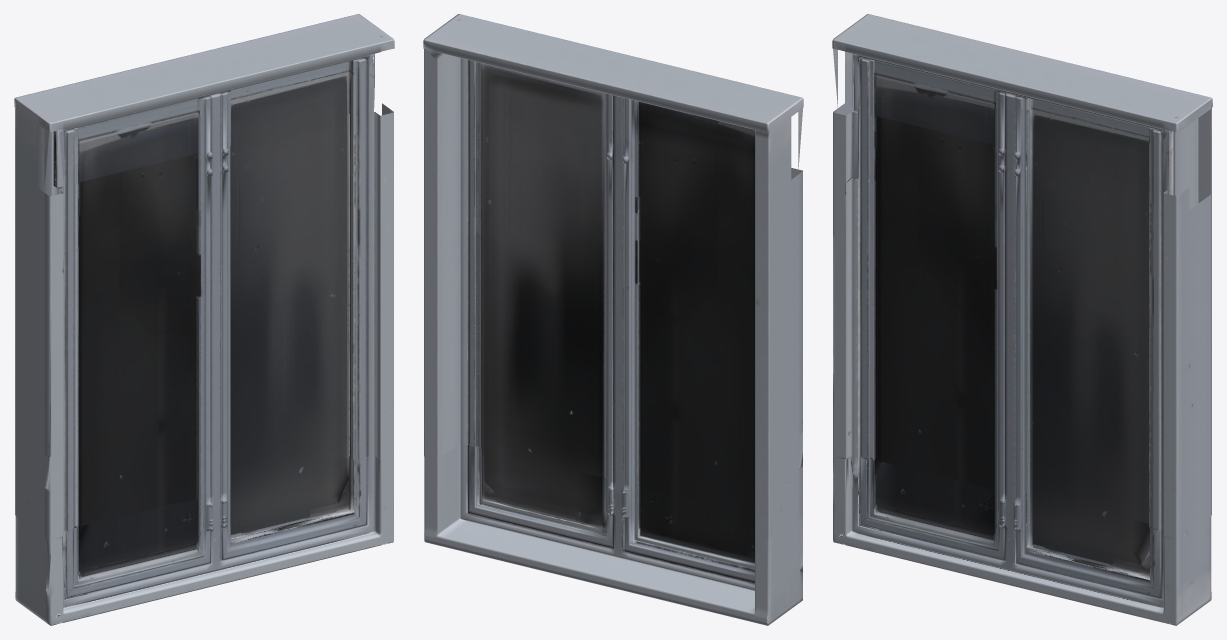
The model's file is selected.fbx.
The picture shows the model from 3 angles, left to right: view 1: azimuth 30°, elevation 25°; view 2: azimuth 150°, elevation 25°; view 3: azimuth 330°, elevation 25°; orthographic projection.
Visible parts, largest first — view 1: Mesh_0; view 2: Mesh_0; view 3: Mesh_0.
Boxes of the visible parts, x1,y1,x2,y2 form: Mesh_0: [14, 14, 394, 625]; Mesh_0: [423, 14, 803, 625]; Mesh_0: [832, 14, 1212, 625].
Size of the model in its own units: 71.82 by 100 by 12.72.
1 material, 1 textured.
